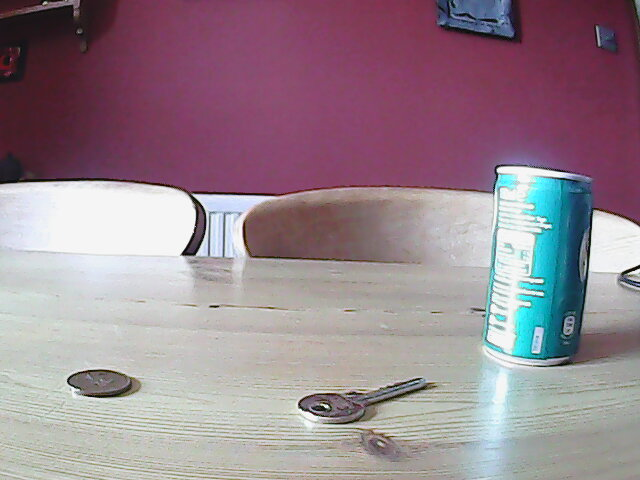Can: (480, 162, 597, 372)
Coin: (63, 366, 136, 400)
Key: (296, 376, 429, 424)
